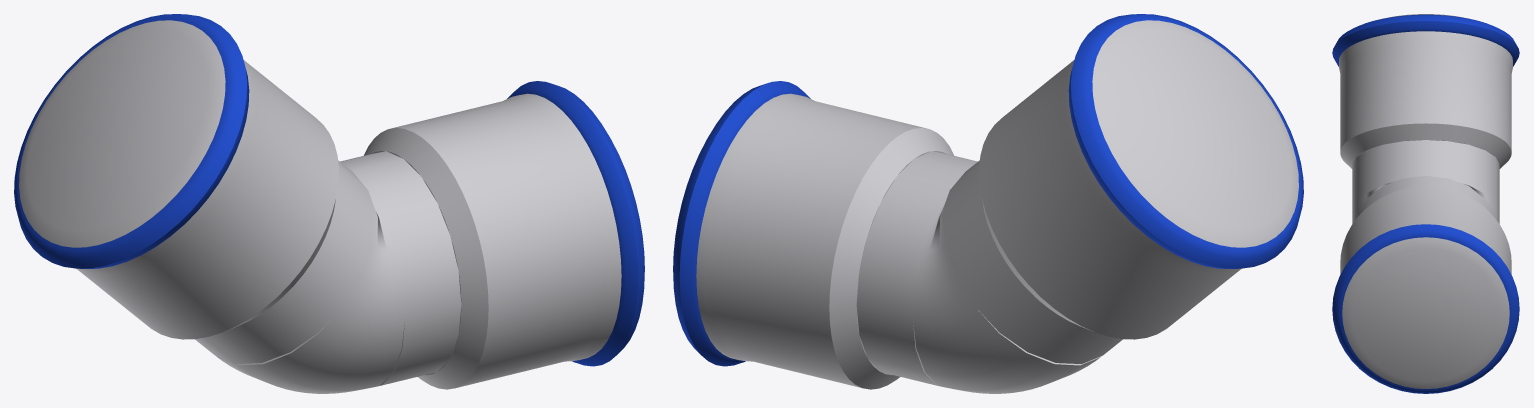
Rendered from fitting_e45_42.glb.
3 renders of one model, left to right at view 1: azimuth 30°, elevation 25°; view 2: azimuth 150°, elevation 25°; view 3: azimuth 270°, elevation 25°, orthographic. The views are drawn at different scales.
Parts seen in each view (by area): view 1: раструб.001, раструб, корпус, изгиб, корпус.001, кольцо пресс.001, кольцо пресс; view 2: раструб.001, раструб, корпус, изгиб, корпус.001, кольцо пресс.001, кольцо пресс; view 3: раструб, раструб.001, корпус.001, кольцо пресс, кольцо пресс.001, корпус, изгиб.
Boxes of the visible parts, left/top/right/bottom form: раструб.001: left=19, top=20, right=338, bottom=339; раструб: left=364, top=93, right=621, bottom=389; корпус: left=340, top=151, right=461, bottom=385; изгиб: left=216, top=201, right=405, bottom=393; корпус.001: left=195, top=160, right=375, bottom=363; кольцо пресс.001: left=14, top=14, right=249, bottom=268; кольцо пресс: left=507, top=81, right=644, bottom=366; раструб.001: left=979, top=20, right=1298, bottom=339; раструб: left=696, top=93, right=953, bottom=389; корпус: left=856, top=151, right=977, bottom=385; изгиб: left=912, top=201, right=1101, bottom=393; корпус.001: left=942, top=160, right=1122, bottom=363; кольцо пресс.001: left=1068, top=14, right=1303, bottom=268; кольцо пресс: left=673, top=81, right=810, bottom=366; раструб: left=1340, top=186, right=1511, bottom=388; раструб.001: left=1339, top=14, right=1512, bottom=168; корпус.001: left=1352, top=140, right=1499, bottom=203; кольцо пресс: left=1332, top=224, right=1519, bottom=393; кольцо пресс.001: left=1332, top=14, right=1519, bottom=66; корпус: left=1359, top=176, right=1492, bottom=215; изгиб: left=1352, top=181, right=1499, bottom=223.
Size of the model in its own units: 0.1236 by 0.0903 by 0.0573.
